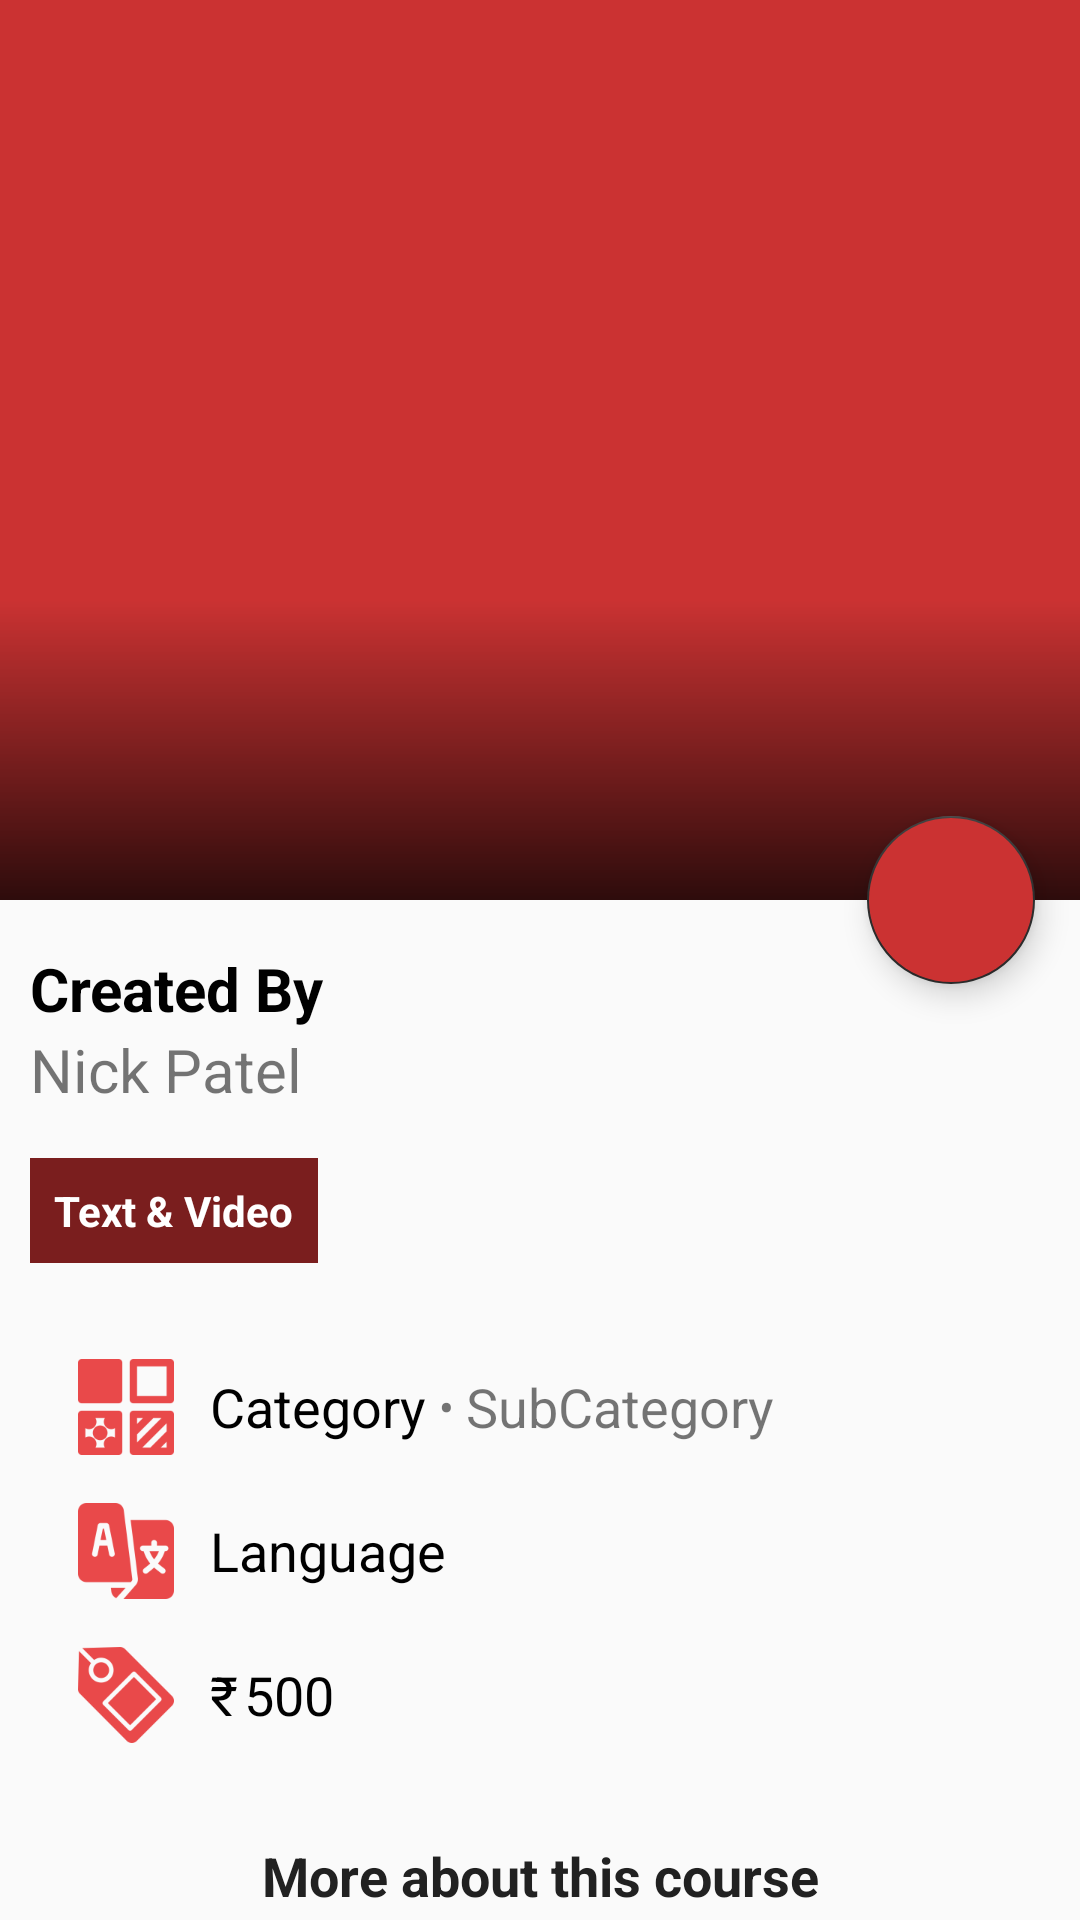

Icons on this 1080w x 1920h Android screen, each with its box as (x1, y1, x2, y2):
price: (78, 1647, 174, 1743)
